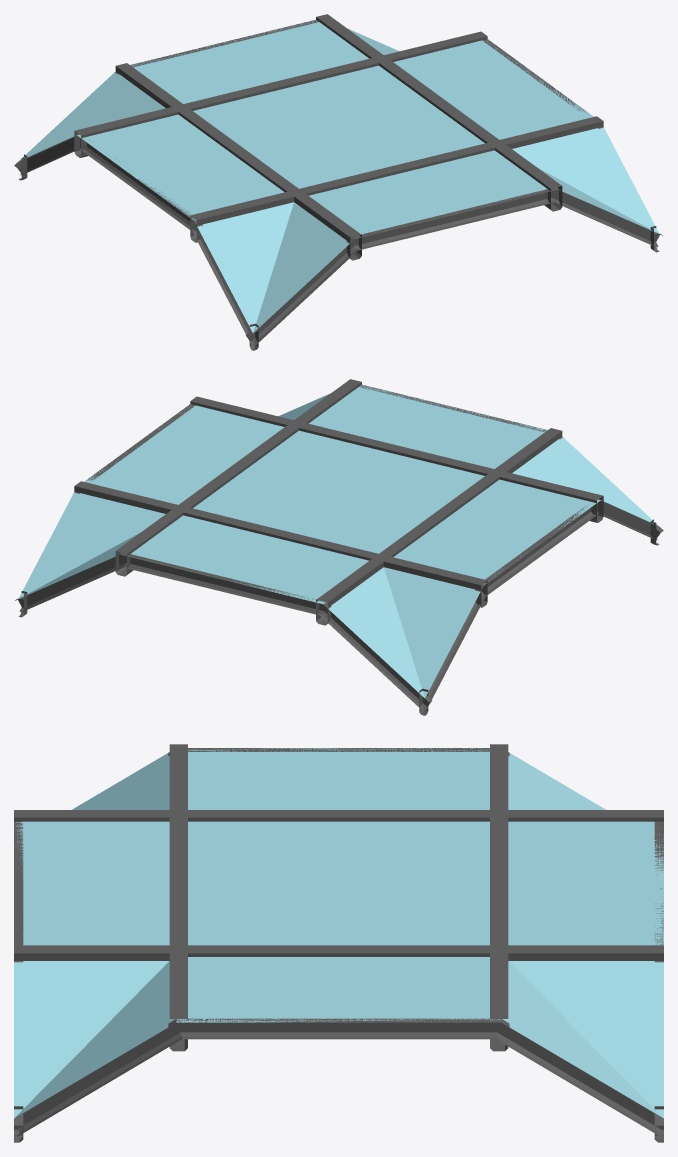
Rendered from SM_GlassCeiling4Way.fbx.
3 renders of one model, top to bottom at view 1: azimuth 30°, elevation 25°; view 2: azimuth 150°, elevation 25°; view 3: azimuth 270°, elevation 25°, orthographic. The views are drawn at different scales.
Visible parts, largest first — view 1: SM_GlassCeiling4Way; view 2: SM_GlassCeiling4Way; view 3: SM_GlassCeiling4Way.
Part boxes in pixels (x1,y1,x2,y2): SM_GlassCeiling4Way: [14, 14, 662, 350]; SM_GlassCeiling4Way: [15, 379, 663, 715]; SM_GlassCeiling4Way: [14, 744, 663, 1142].
Size of the model in its own units: 408 by 84.06 by 400.
